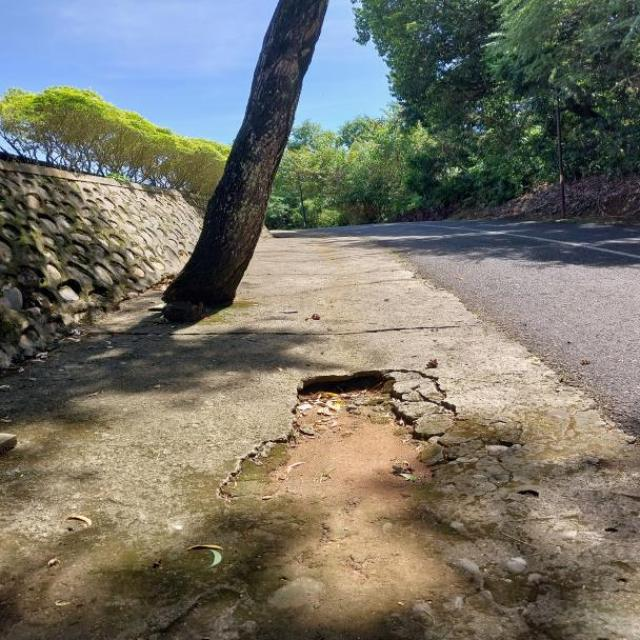pathole ahead at: (278, 364, 416, 488)
tree ahead at: (167, 0, 344, 305)
